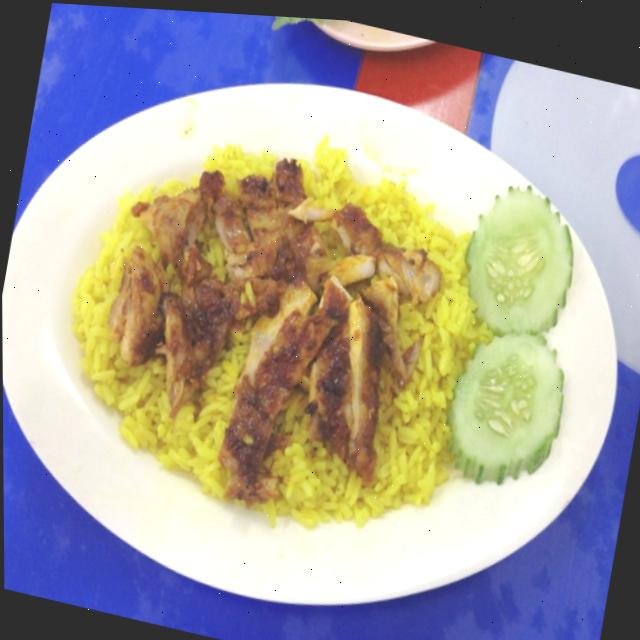米饭主食: (0, 13, 640, 640)
